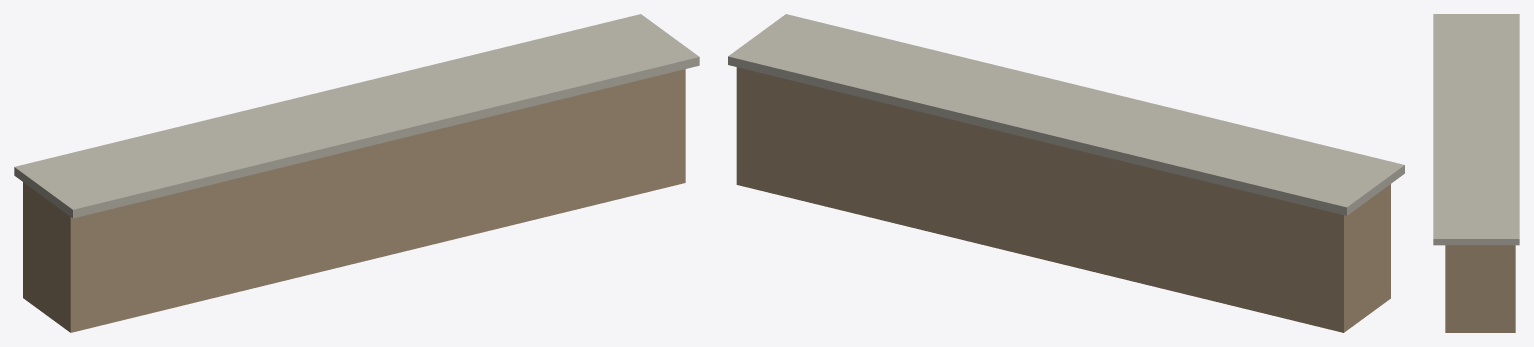
The model's file is mov_08970f1f9e.gltf.
The picture shows the model from 3 angles, left to right: view 1: azimuth 30°, elevation 25°; view 2: azimuth 150°, elevation 25°; view 3: azimuth 270°, elevation 25°; orthographic projection. The views are drawn at different scales.
Visible parts, largest first — view 1: mov_08970f1f9e; view 2: mov_08970f1f9e; view 3: mov_08970f1f9e.
Boxes of the visible parts, box(x1,y1,x2,y2) form: mov_08970f1f9e: box(14, 14, 699, 332); mov_08970f1f9e: box(728, 14, 1404, 332); mov_08970f1f9e: box(1433, 14, 1519, 332).
Bounding box in the file's own units: 5.3 × 1.05 × 0.86.
